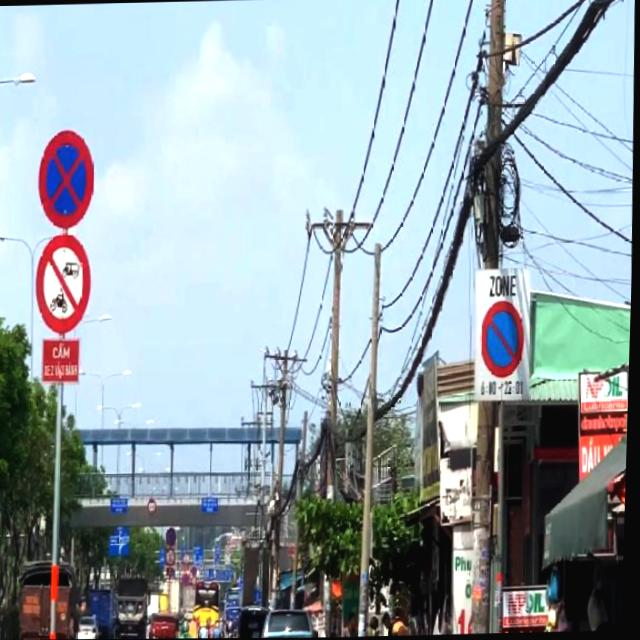Cam do xe: (480, 299, 528, 380)
Cam dung xe va do xe: (37, 128, 97, 230), (169, 526, 180, 546)
Han che chieu cao: (151, 499, 160, 514)
